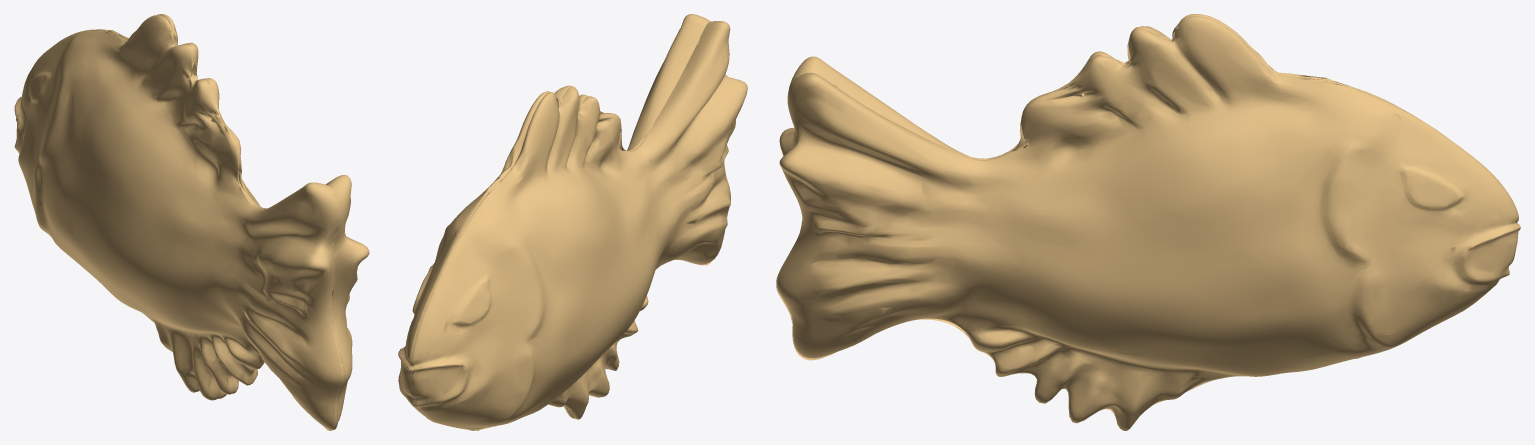
The model's file is Ing.fbx.
3 renders of one model, left to right at view 1: azimuth 30°, elevation 25°; view 2: azimuth 150°, elevation 25°; view 3: azimuth 270°, elevation 25°, orthographic. The views are drawn at different scales.
Parts seen in each view (by area): view 1: Quad_Sphere.001; view 2: Quad_Sphere.001; view 3: Quad_Sphere.001.
Boxes of the visible parts, box(x1,y1,x2,y2) form: Quad_Sphere.001: box(14, 14, 369, 430); Quad_Sphere.001: box(398, 14, 747, 430); Quad_Sphere.001: box(776, 14, 1520, 430).
Bounding box in the file's own units: 84.01 × 224 × 365.
